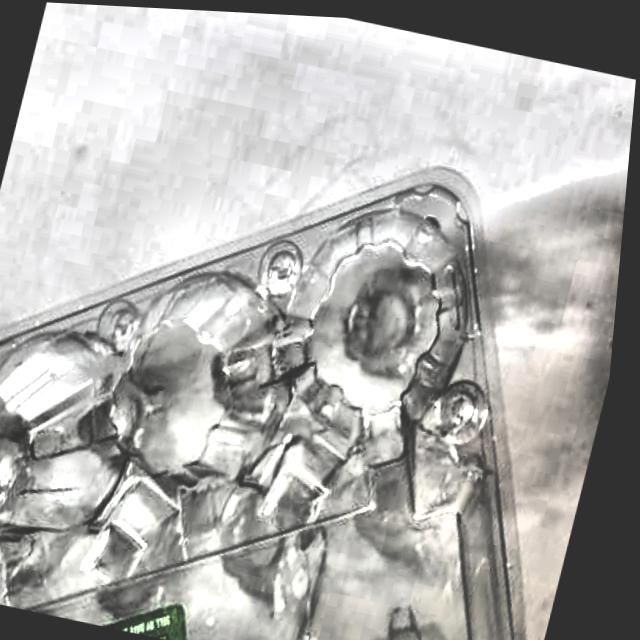Plastic: (0, 69, 635, 640)
